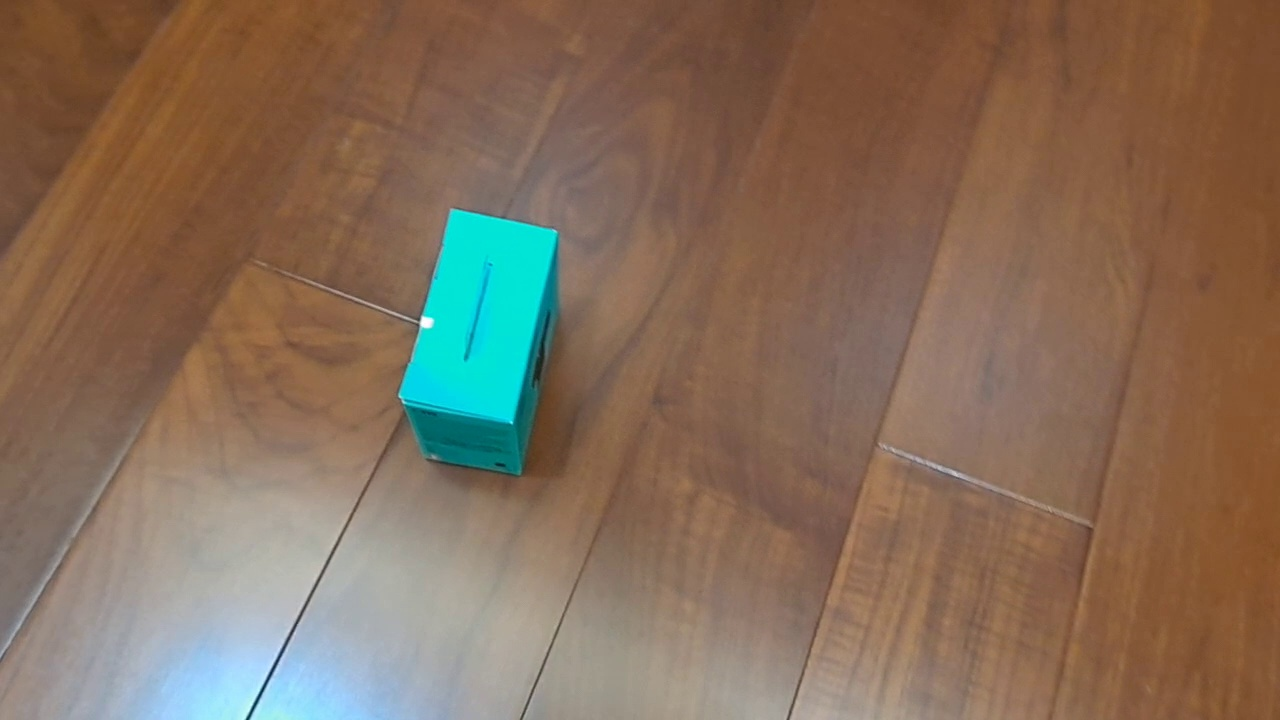webcam: (397, 207, 560, 477)
